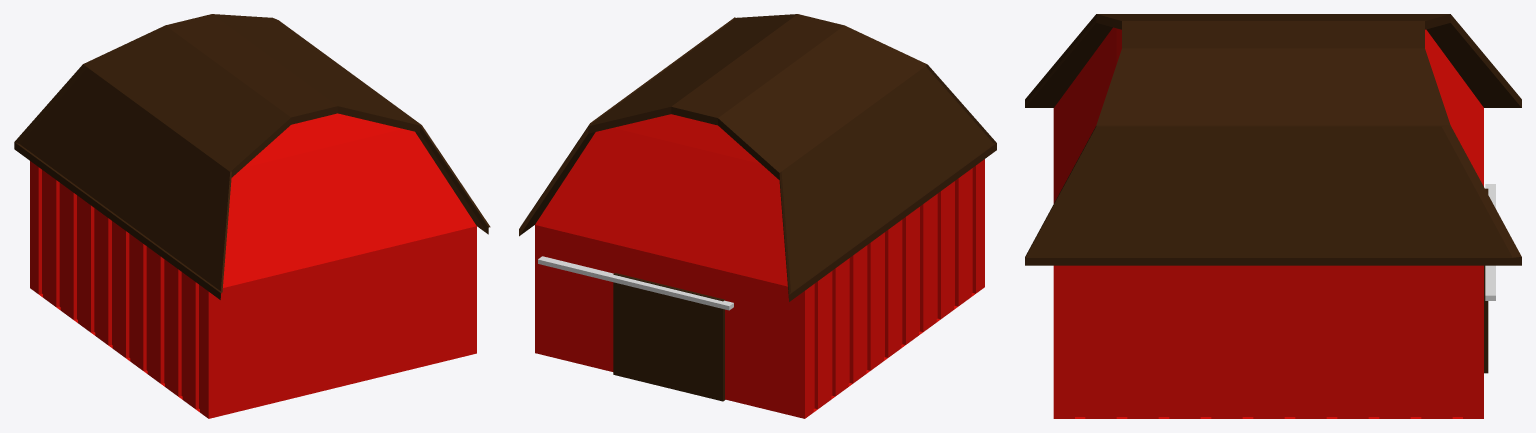
File: Barn.fbx
3 renders of one model, left to right at view 1: azimuth 30°, elevation 25°; view 2: azimuth 150°, elevation 25°; view 3: azimuth 270°, elevation 25°, orthographic. The views are drawn at different scales.
Visible parts, largest first — view 1: Cube.013, ROOF; view 2: Cube.013, ROOF, DOOR, Cube.014; view 3: ROOF, Cube.013, Cube.014.
Part boxes in pixels (left/top/right/bottom): Cube.013: left=30, top=113, right=476, bottom=418; ROOF: left=14, top=14, right=490, bottom=299; Cube.013: left=535, top=114, right=984, bottom=418; ROOF: left=519, top=14, right=996, bottom=301; DOOR: left=613, top=273, right=725, bottom=401; Cube.014: left=538, top=256, right=733, bottom=310; ROOF: left=1025, top=14, right=1521, bottom=265; Cube.013: left=1053, top=27, right=1483, bottom=418; Cube.014: left=1485, top=184, right=1495, bottom=300.
Bounding box in the file's own units: 131 × 118 × 173.
